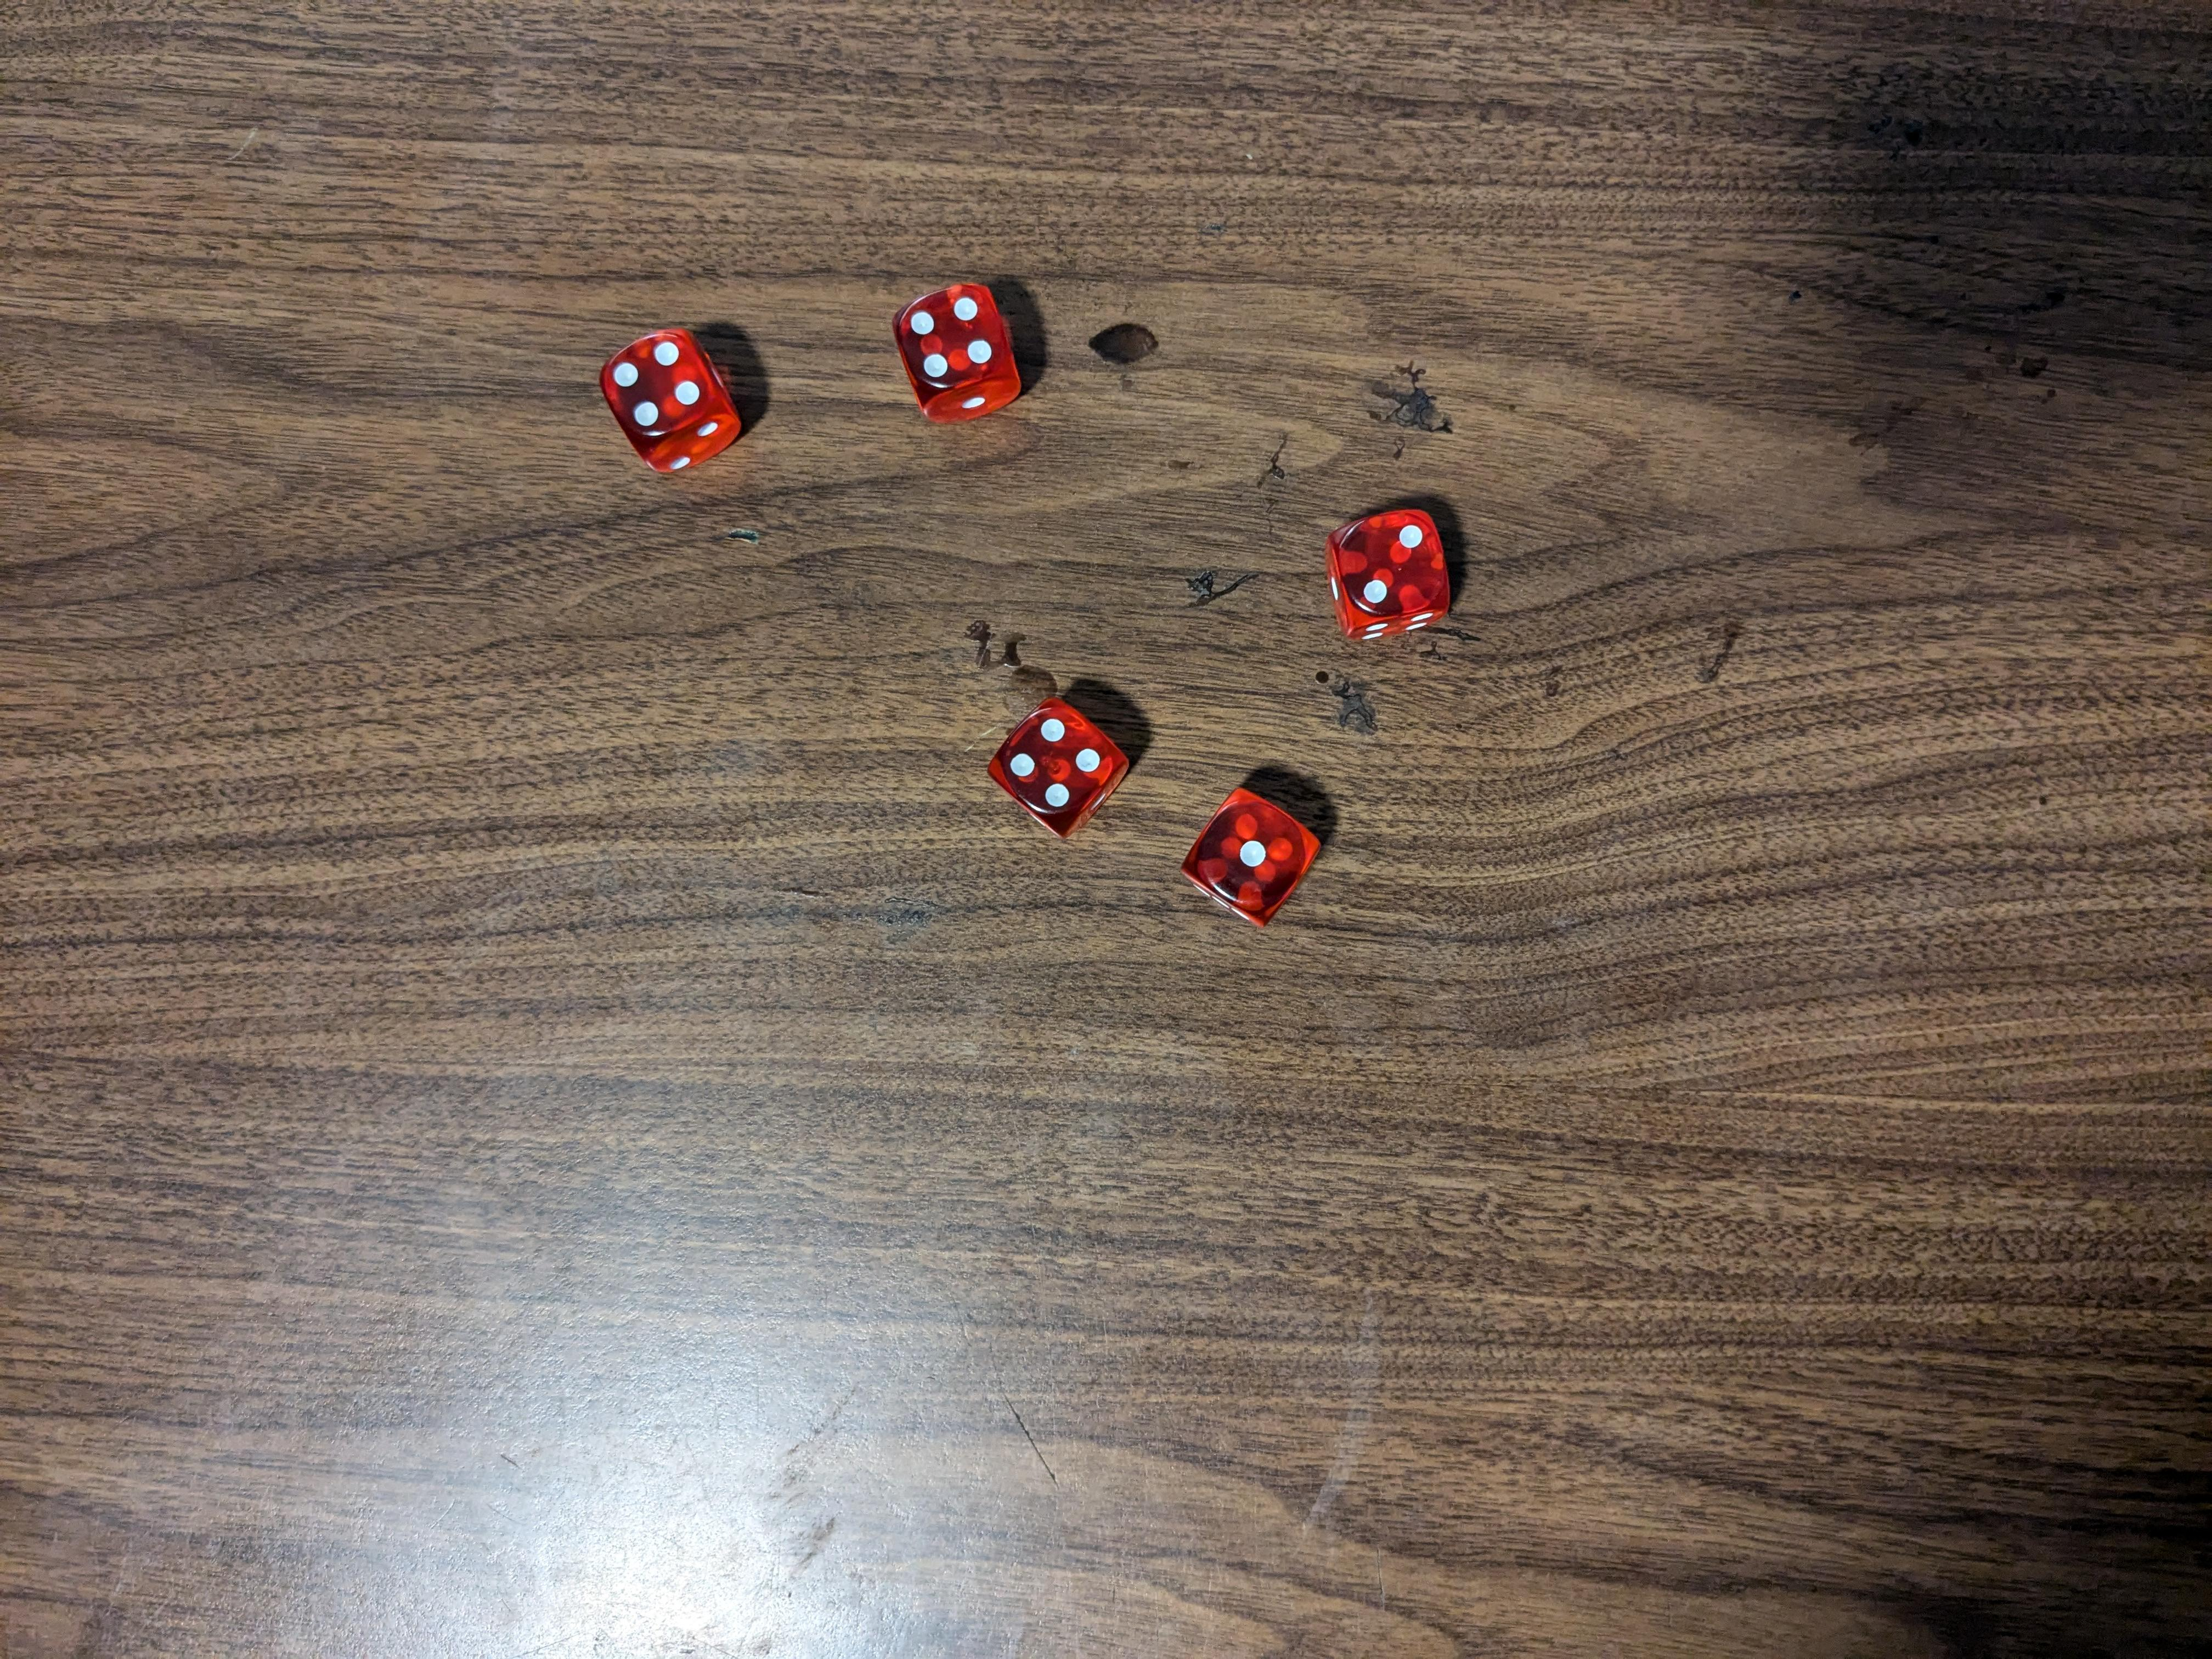four: (585, 317, 754, 477), (979, 694, 1141, 849), (887, 281, 1035, 429)
one: (1183, 786, 1327, 927)
two: (1325, 507, 1451, 647)
